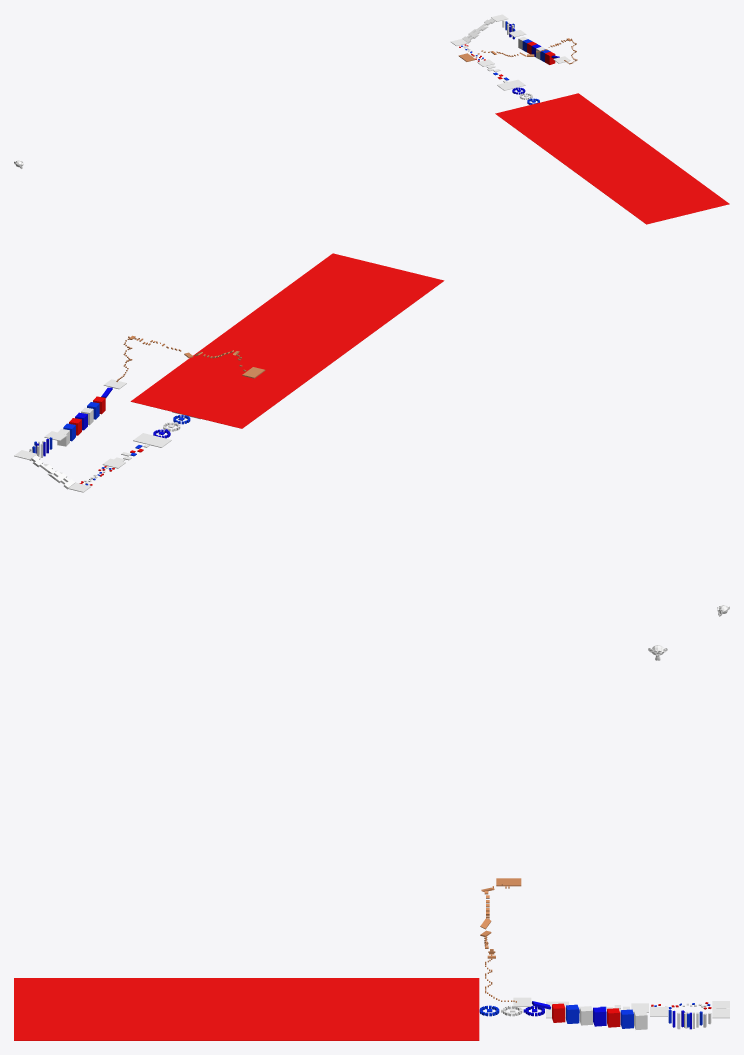
3 renders of one model, top to bottom at view 1: azimuth 30°, elevation 25°; view 2: azimuth 150°, elevation 25°; view 3: azimuth 270°, elevation 25°, orthographic. The views are drawn at different scales.
Parts seen in each view (by area): view 1: Box; view 2: Box; view 3: Box.
Part boxes in pixels (x1=…): Box: x1=495, y1=93, x2=729, y2=224; Box: x1=130, y1=253, x2=444, y2=428; Box: x1=14, y1=978, x2=479, y2=1040.
Bounding box in the file's own units: 3538 × 402 × 2797.
